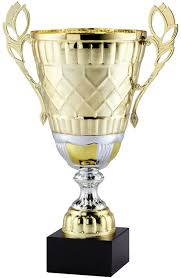trophy: (1, 1, 179, 278)
